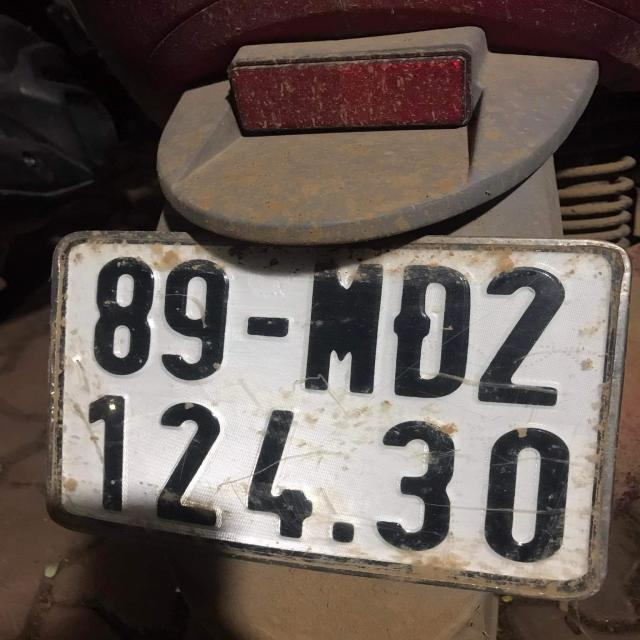0: (474, 420, 582, 567)
1: (73, 392, 137, 513)
2: (476, 261, 571, 409), (148, 396, 227, 531)
3: (366, 416, 462, 556)
4: (239, 404, 321, 542)
8: (84, 252, 158, 378)
9: (157, 255, 235, 383)
D: (384, 260, 474, 400)
M: (292, 255, 381, 396)
